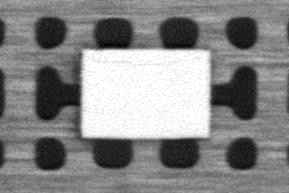DIE_CRACK: (96, 53, 203, 67)
